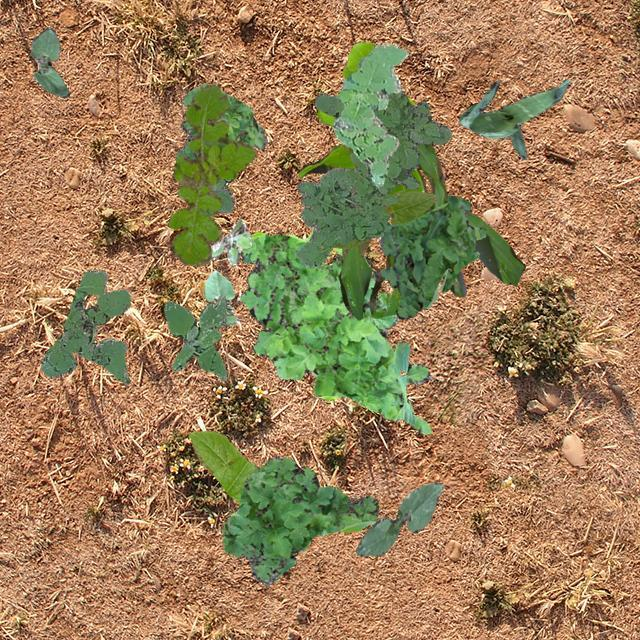crop: (298, 142, 524, 318), (457, 78, 569, 158), (356, 482, 442, 556), (332, 188, 436, 248), (188, 430, 256, 502), (28, 26, 68, 96), (202, 270, 238, 326)
weed: (235, 230, 430, 432), (294, 86, 449, 266), (222, 454, 378, 586), (168, 82, 255, 266), (378, 194, 486, 318), (332, 42, 408, 186), (39, 270, 130, 384), (316, 41, 412, 126), (176, 85, 266, 158), (162, 294, 226, 379), (210, 218, 250, 264), (205, 177, 232, 214)
